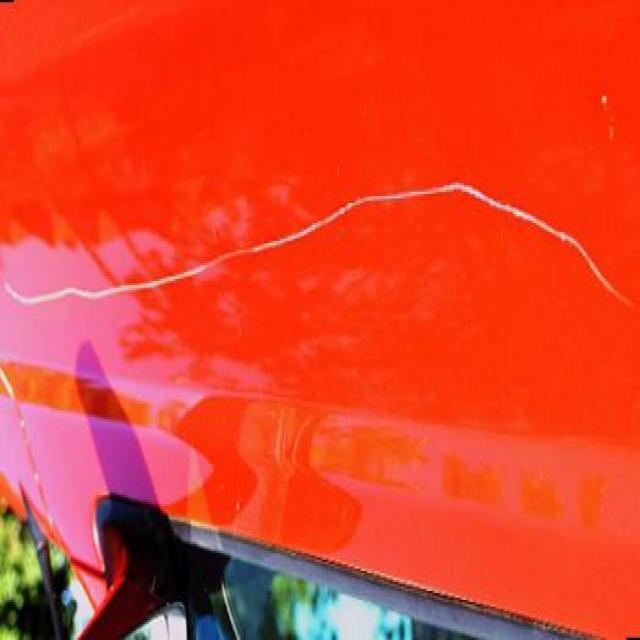scratch: (1, 186, 638, 338)
